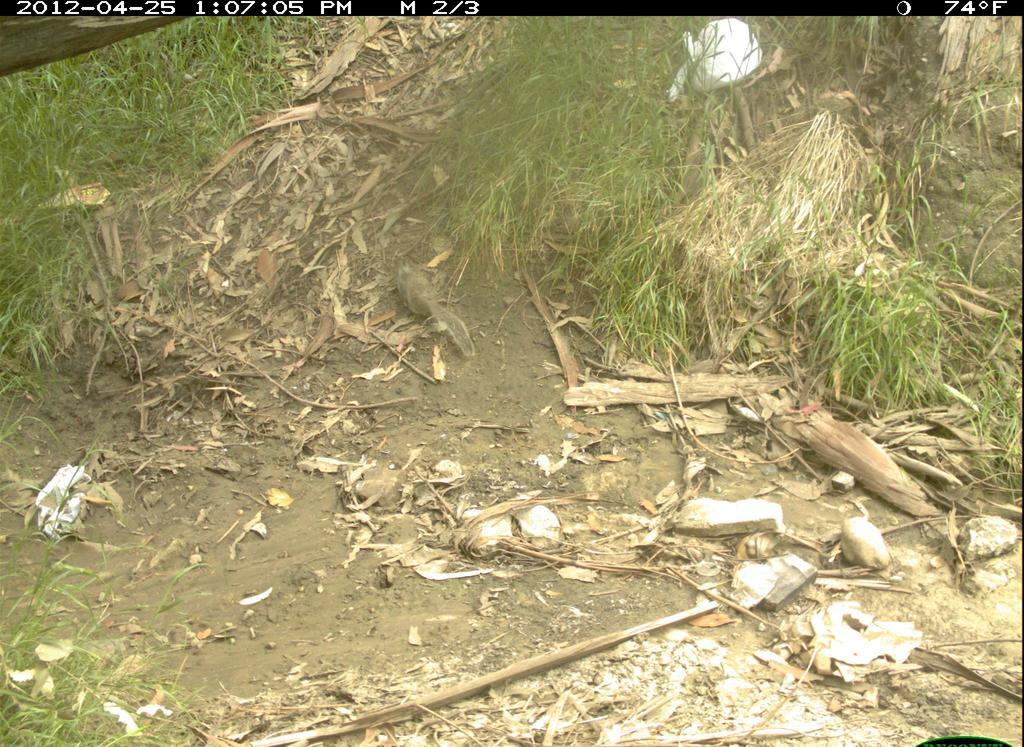squirrel: (388, 250, 482, 364)
